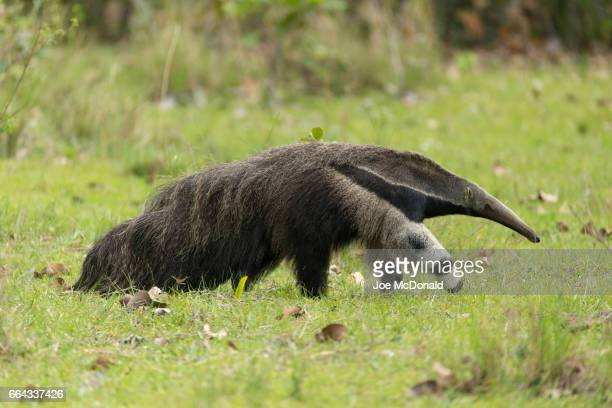TamanduaBandeira: (70, 137, 545, 304)
